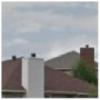chimneys: (22, 52, 44, 99), (79, 43, 95, 72)
